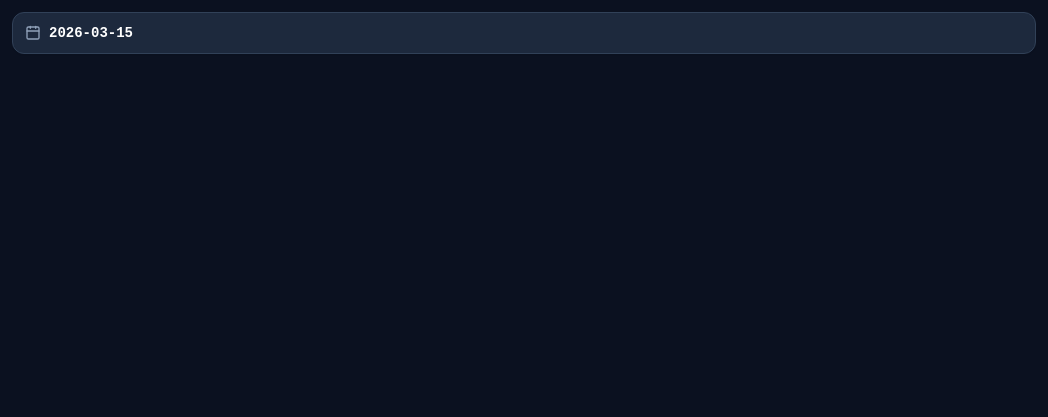
it: NavDatePicker Hierarchical Calendar Zoom-Out (Slice 29) › renders trigger with initial date and opens popover on click
Note: Click trigger to open popover
Click the button "2026-03-15" at (91, 33), box [12,12,1036,54]
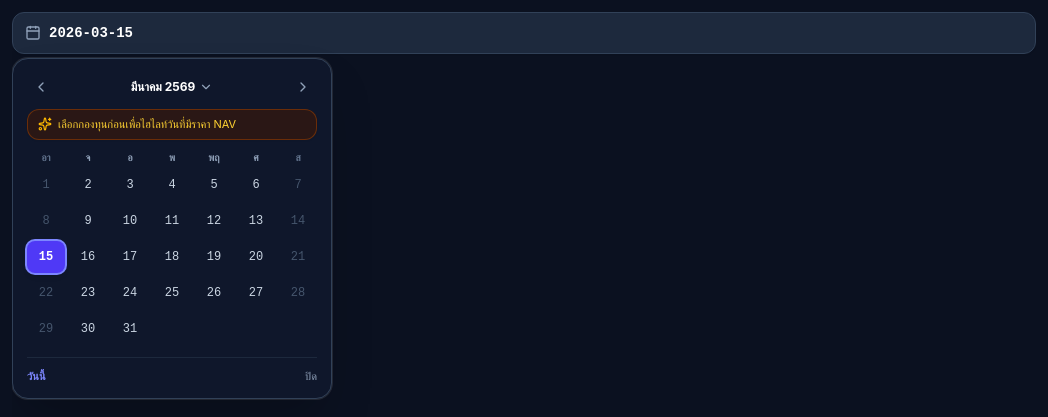
Result: the text "มีนาคม 2569" is shown at [131,79,195,95]
